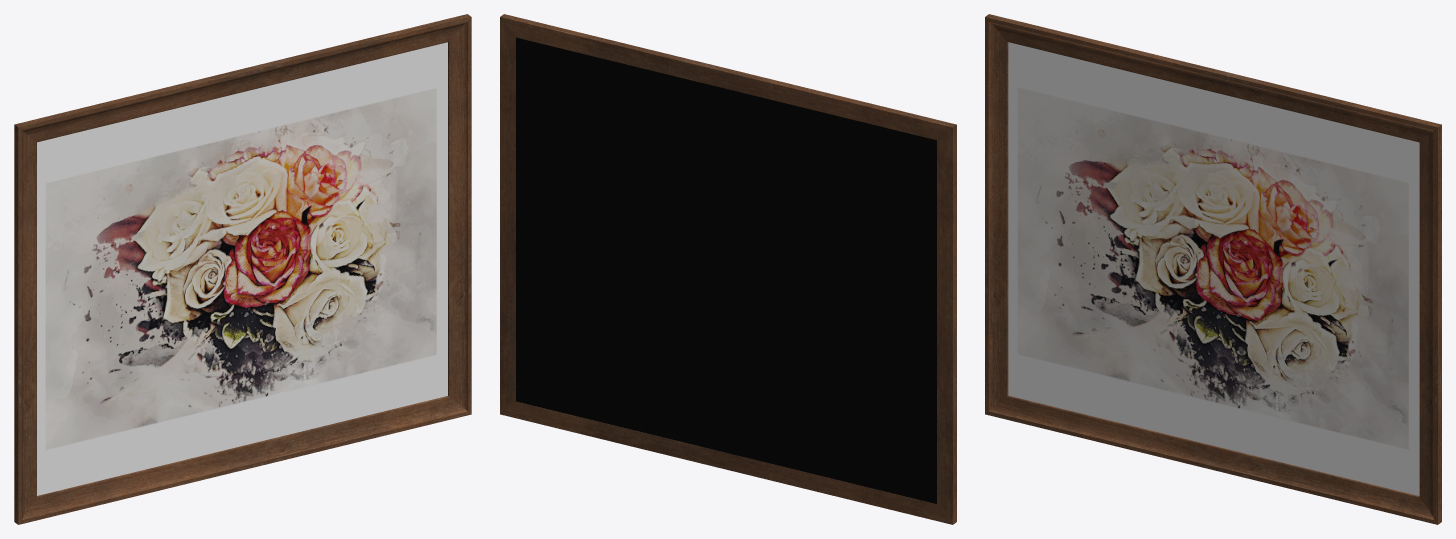
The model's file is Picture02_2.FBX.
The picture shows the model from 3 angles, left to right: view 1: azimuth 30°, elevation 25°; view 2: azimuth 150°, elevation 25°; view 3: azimuth 330°, elevation 25°; orthographic projection.
Parts seen in each view (by area): view 1: Picture02_2; view 2: Picture02_2; view 3: Picture02_2.
Part boxes in pixels (x1,y1,x2,y2): Picture02_2: (14, 14, 471, 524); Picture02_2: (500, 14, 956, 524); Picture02_2: (985, 14, 1441, 524).
Bounding box in the file's own units: 967 × 810 × 15.33.
